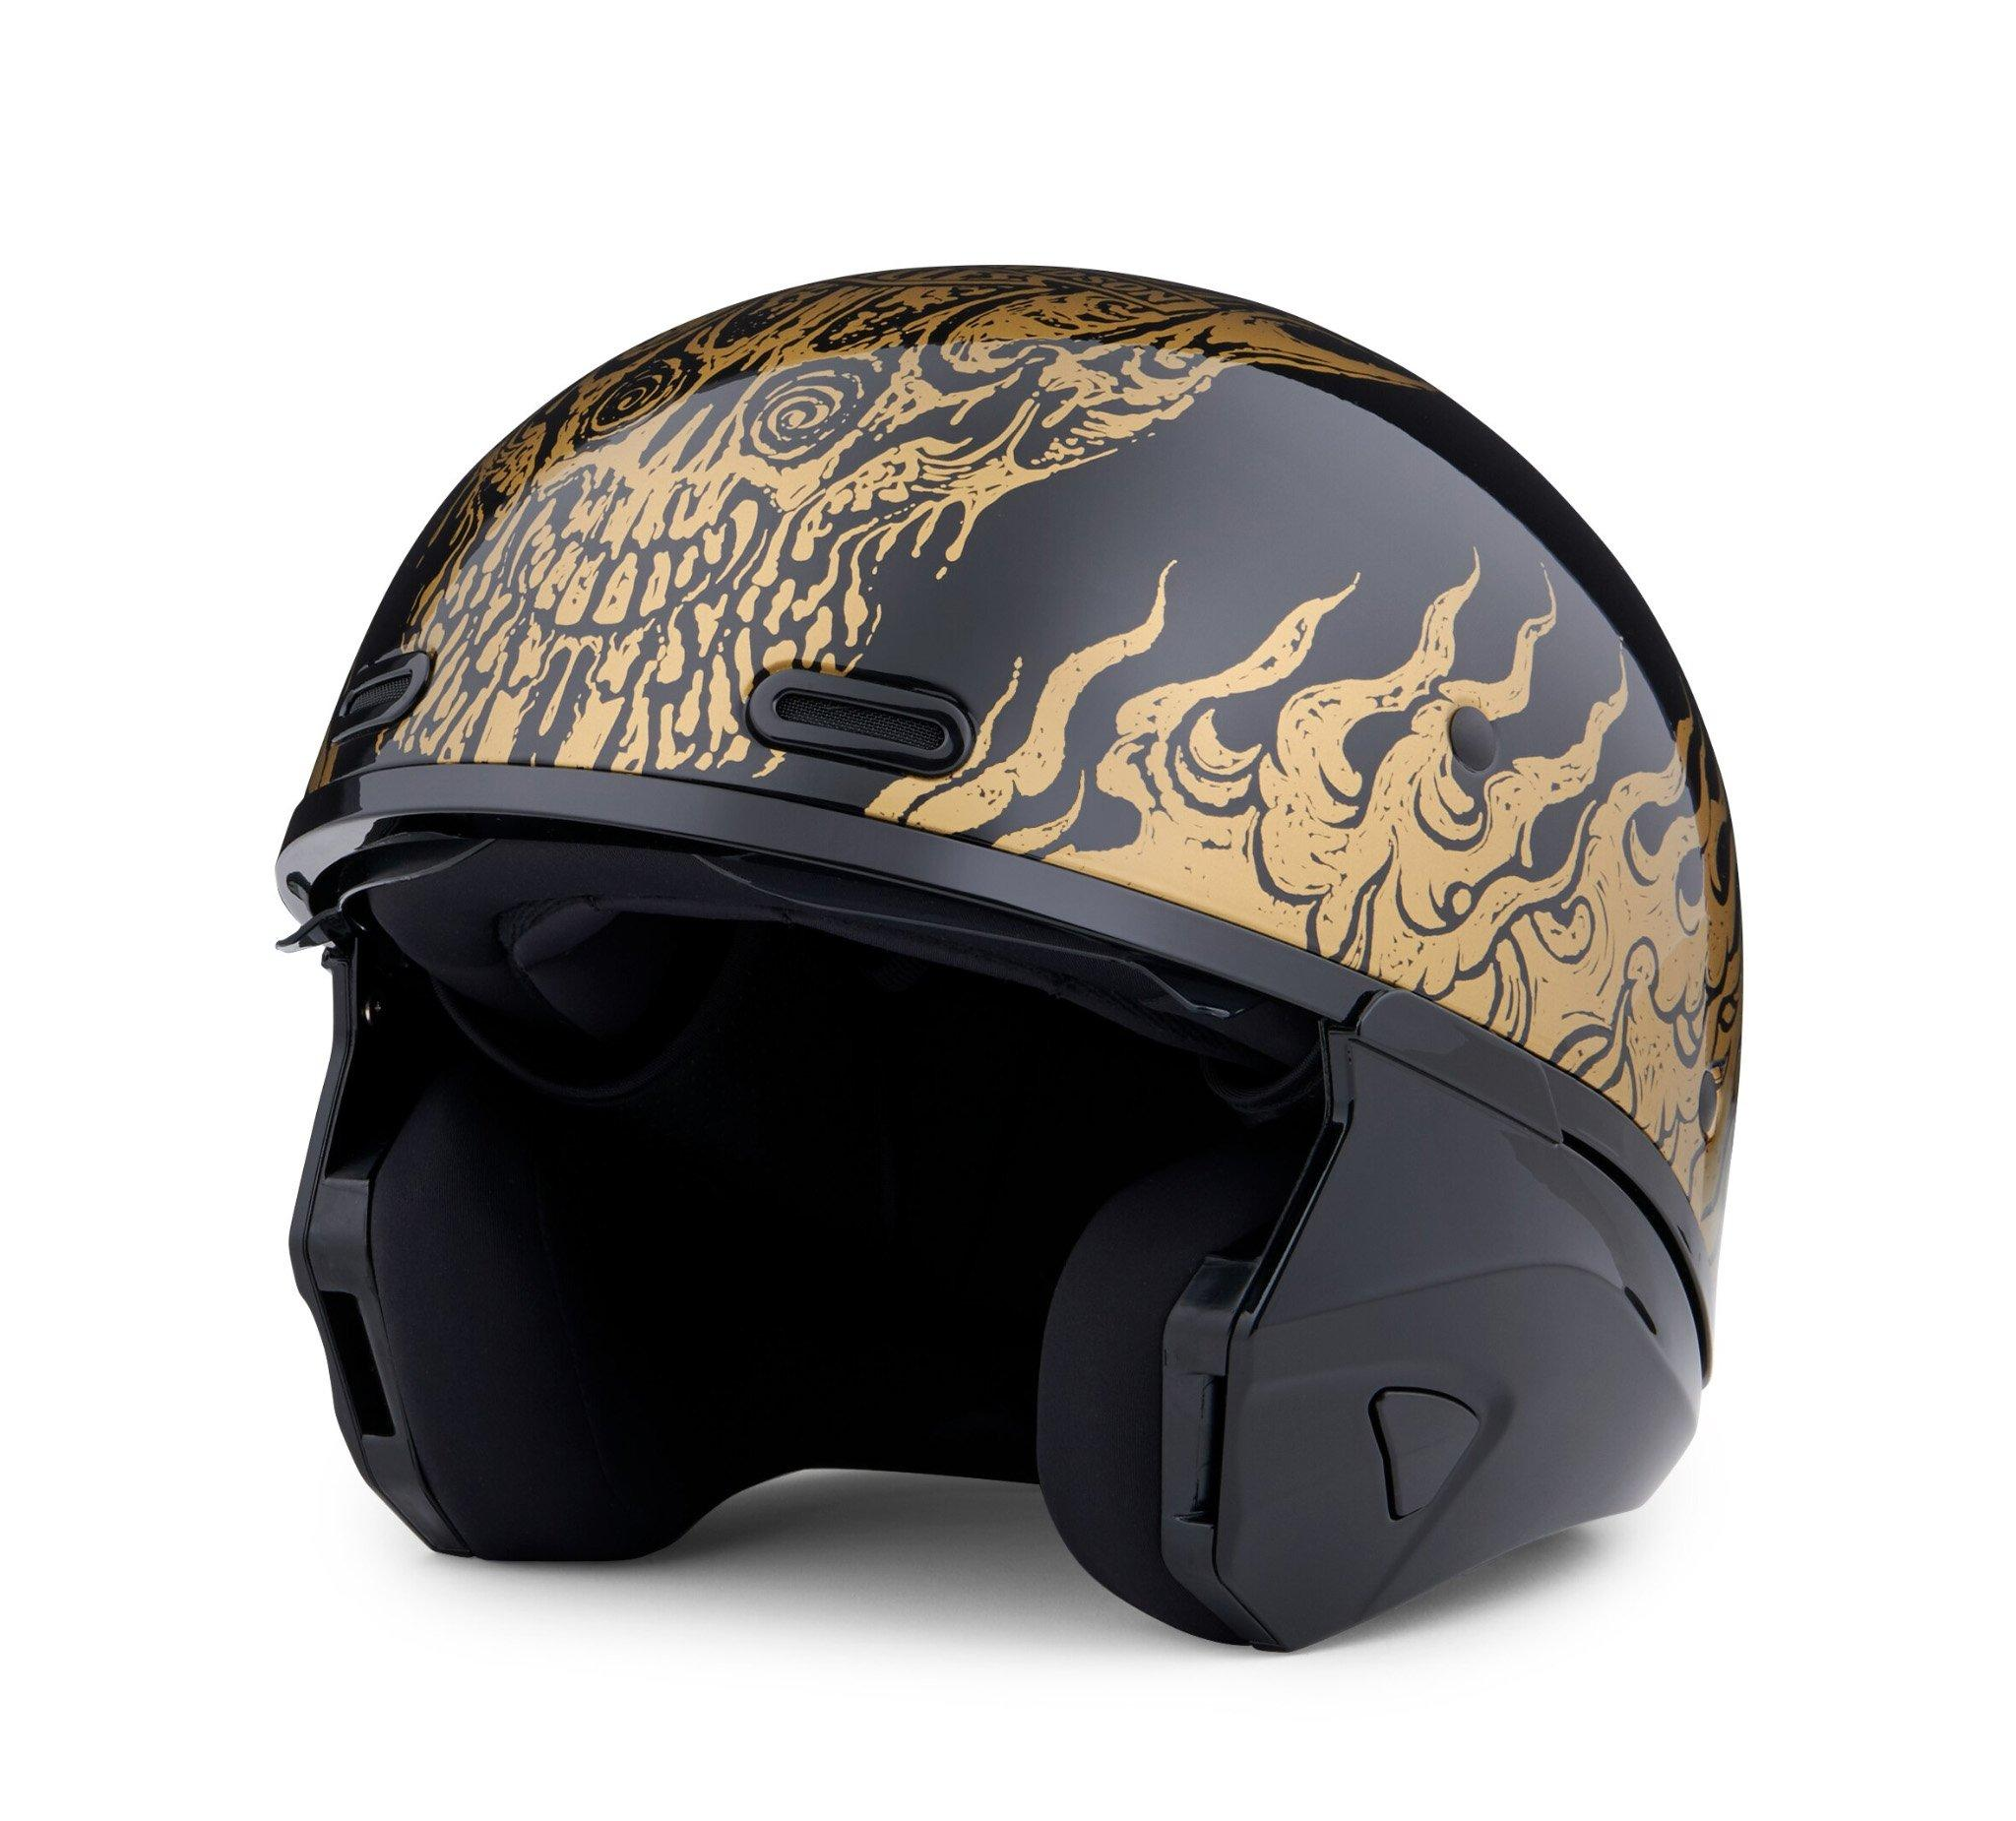helmet: (302, 184, 1779, 1647)
